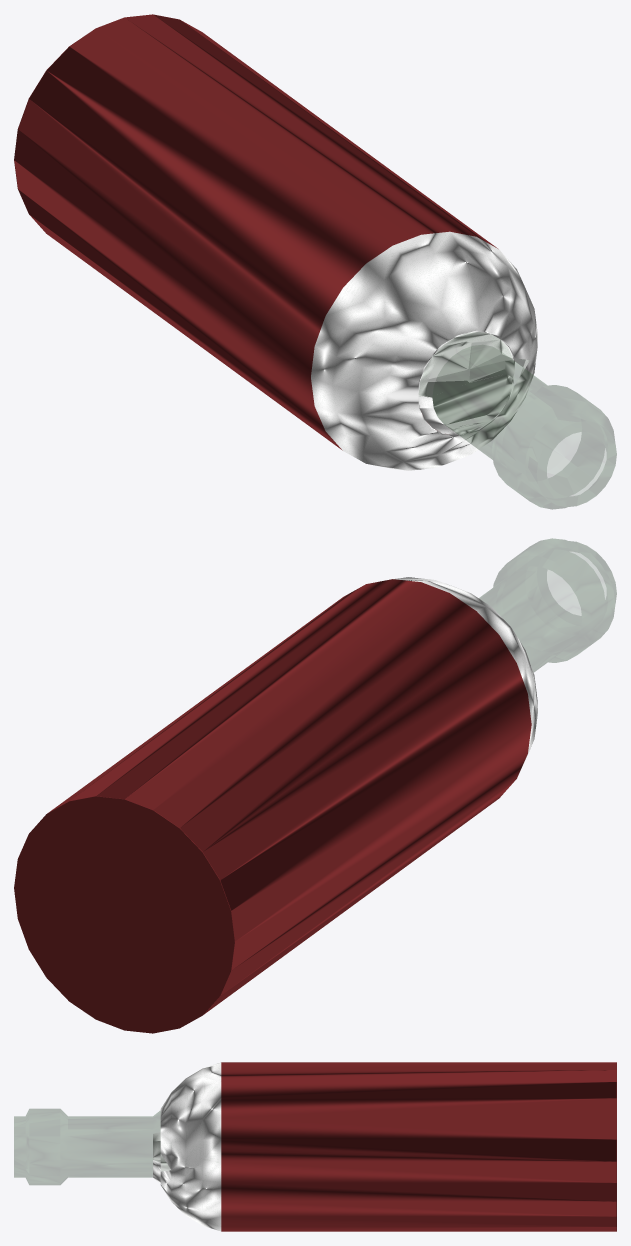
File: model_align.obj
The picture shows the model from 3 angles, top to bottom: view 1: azimuth 30°, elevation 25°; view 2: azimuth 150°, elevation 25°; view 3: azimuth 270°, elevation 25°; orthographic projection. The views are drawn at different scales.
Bounding box in the file's own units: 0.056 × 0.056 × 0.1988.
